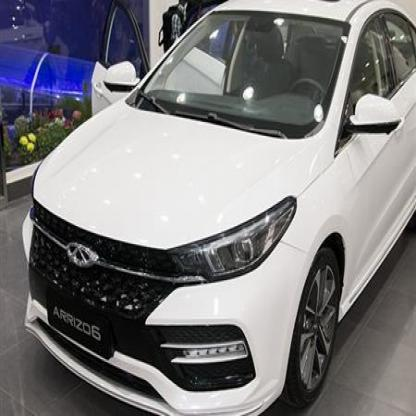Car: (3, 0, 416, 416)
